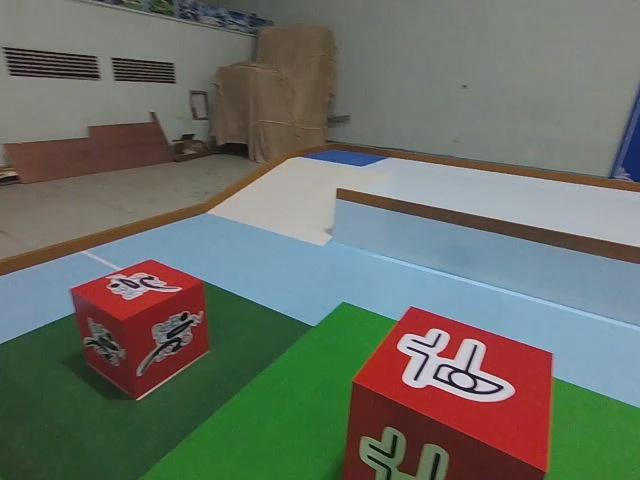R1: (68, 259, 211, 401)
R2 Real: (343, 305, 552, 480)
